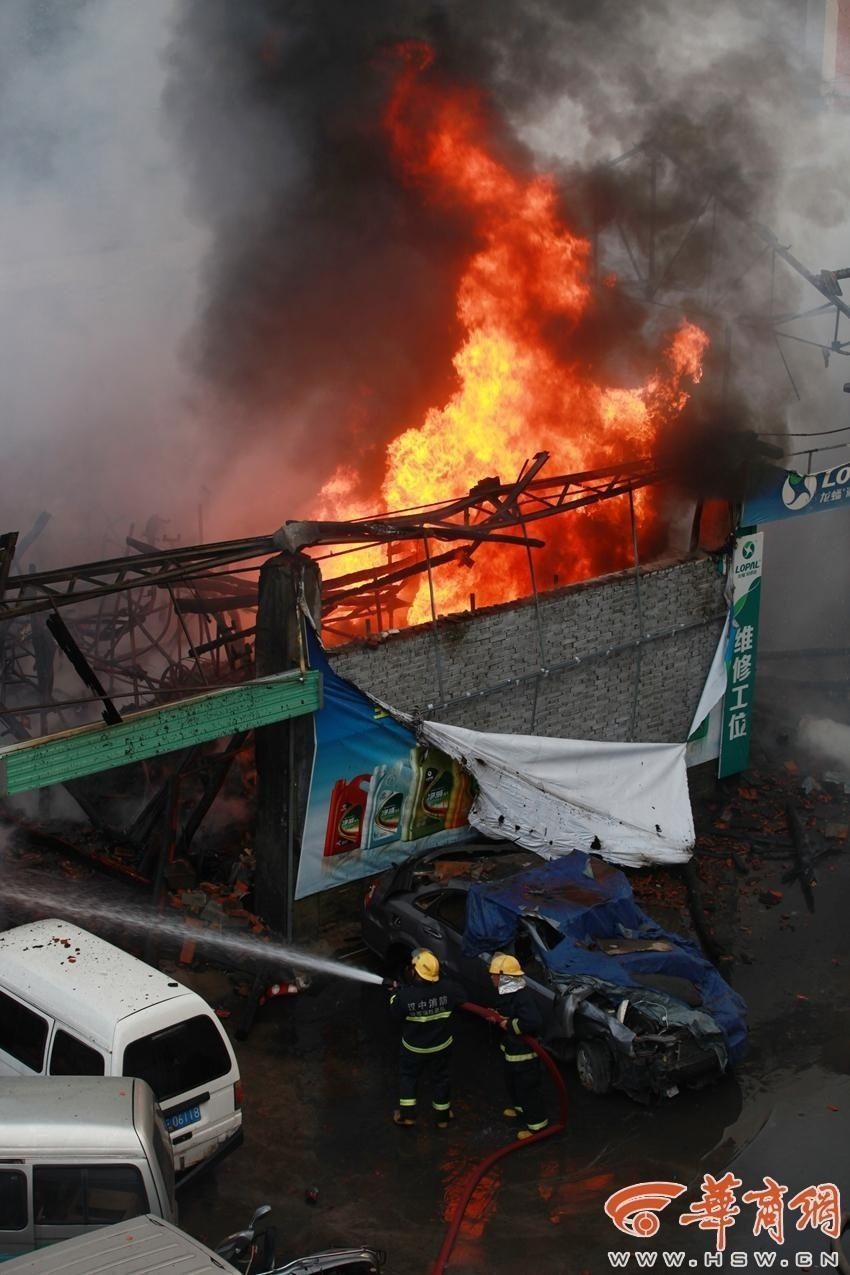fire: (322, 42, 697, 647)
